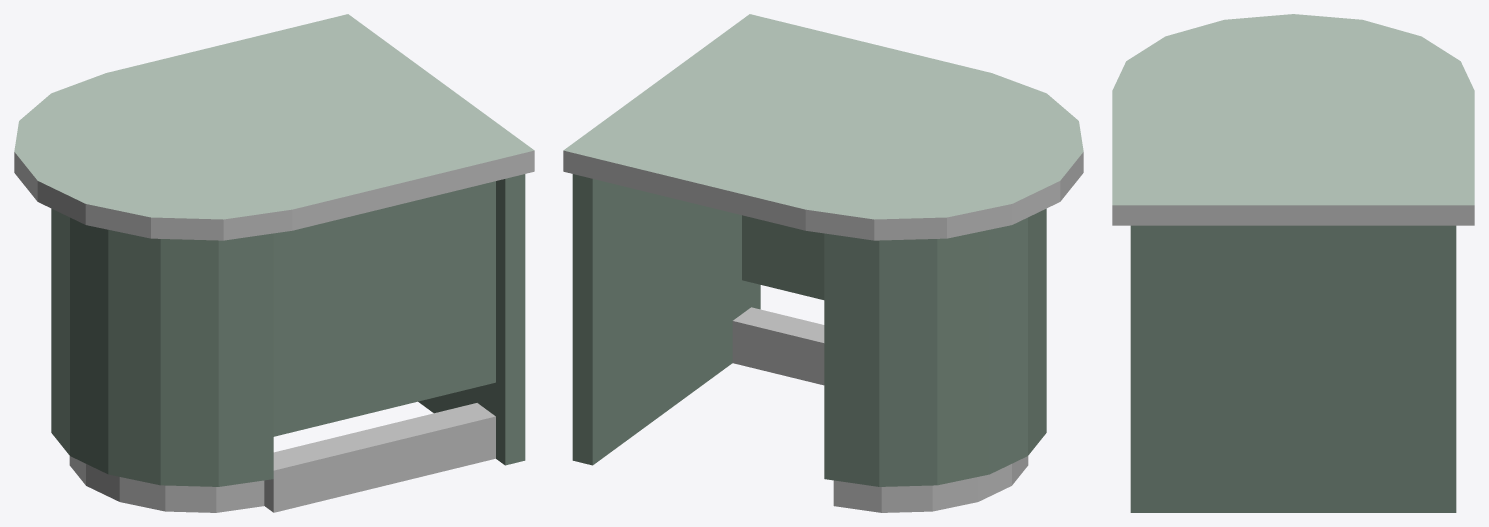
File: desk_round_mirrored.obj
3 views of the same model, side by side, from view 1: azimuth 30°, elevation 25°; view 2: azimuth 150°, elevation 25°; view 3: azimuth 270°, elevation 25° (orthographic). The views are drawn at different scales.
Visible parts, largest first — view 1: desk_round_mirrored; view 2: desk_round_mirrored; view 3: desk_round_mirrored.
Part boxes in pixels (x1,y1,x2,y2): desk_round_mirrored: (14, 14, 534, 512); desk_round_mirrored: (563, 14, 1083, 512); desk_round_mirrored: (1112, 14, 1474, 512).
Bounding box in the file's own units: 1 × 0.75 × 0.8.
